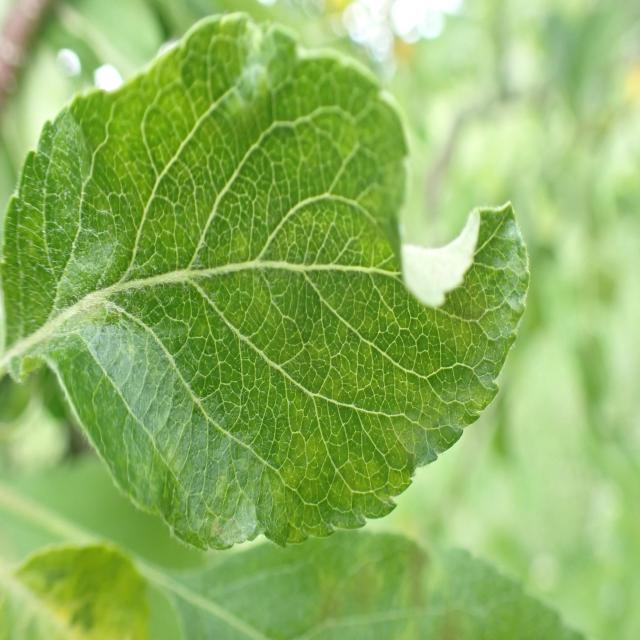scab: (366, 245, 550, 392)
